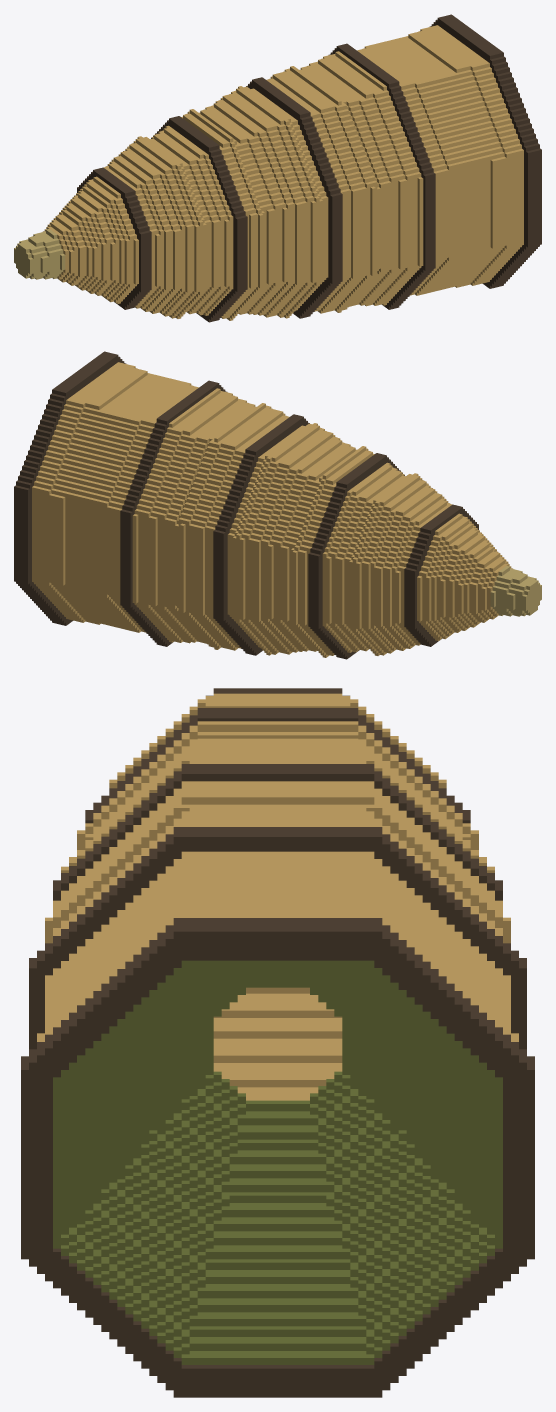
Rendered from fish_trap_basket.glb.
The picture shows the model from 3 angles, top to bottom: view 1: azimuth 30°, elevation 25°; view 2: azimuth 150°, elevation 25°; view 3: azimuth 270°, elevation 25°; orthographic projection. The views are drawn at different scales.
Parts seen in each view (by area): view 1: fish_trap_basket:compound; view 2: fish_trap_basket:compound; view 3: fish_trap_basket:compound.
Boxes of the visible parts, x1,y1,x2,y2 form: fish_trap_basket:compound: [14, 14, 541, 322]; fish_trap_basket:compound: [14, 351, 541, 659]; fish_trap_basket:compound: [21, 688, 534, 1397].
Bounding box in the file's own units: 0.524 × 0.256 × 0.256.
